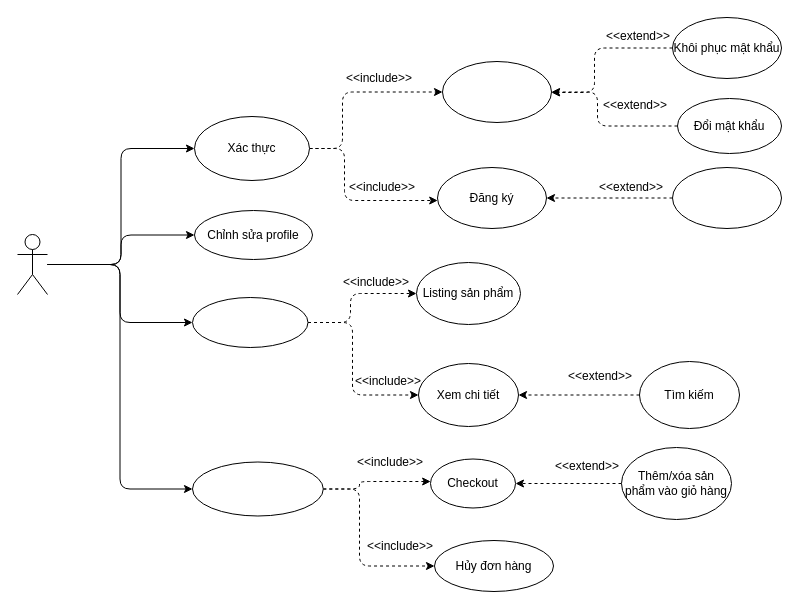
This 799x609 diagram has some shape labels left out. Each missing label, with the centre of its shape:
"Mua sản phẩm" belongs at pixel 257 488.
"User" belongs at pixel 32 264.
"Xem sản phẩm" belongs at pixel 250 322.
"Xác thực email" belongs at pixel 727 197.
"Đăng nhập" belongs at pixel 497 91.
